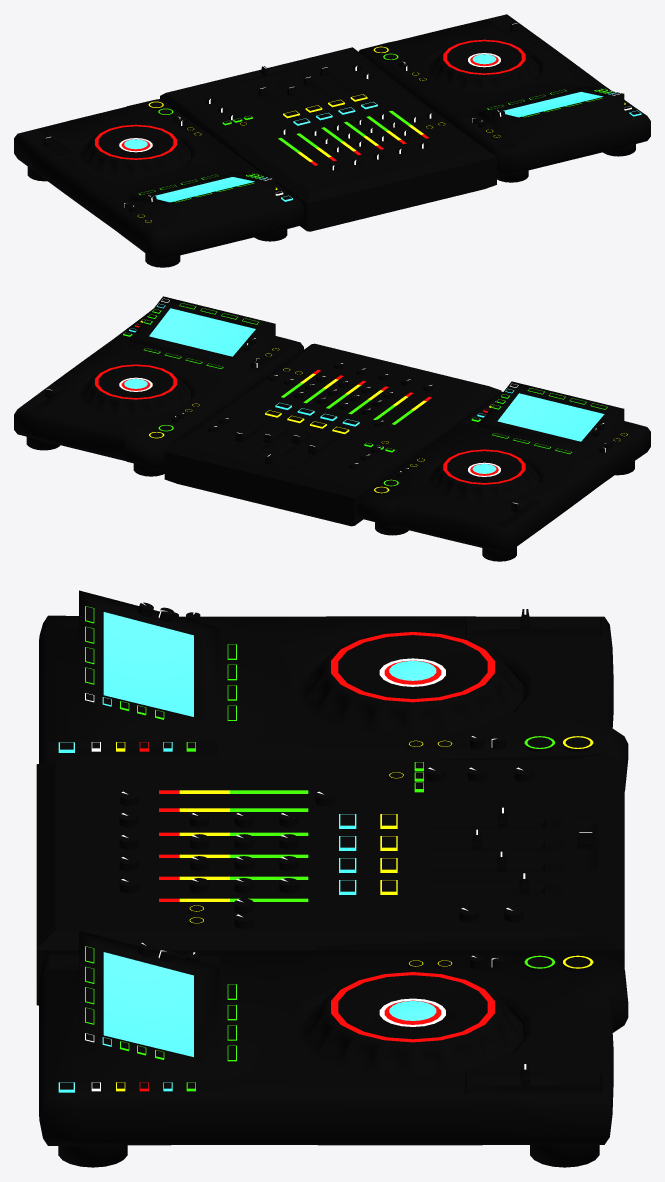
The model's file is dj_set.glb.
3 renders of one model, top to bottom at view 1: azimuth 30°, elevation 25°; view 2: azimuth 150°, elevation 25°; view 3: azimuth 270°, elevation 25°, orthographic. The views are drawn at different scales.
Visible parts, largest first — view 1: Box058, Cylinder121, Cylinder226; view 2: Box058, Cylinder121, Cylinder226; view 3: Cylinder226, Box058, Cylinder121, Cylinder228, Cylinder230.
Boxes of the visible parts, box(x1,y1,x2,y2) form: Box058: box(160, 47, 496, 231); Cylinder121: box(14, 99, 303, 260); Cylinder226: box(358, 14, 650, 176); Box058: box(164, 343, 501, 526); Cylinder121: box(356, 381, 650, 553); Cylinder226: box(14, 296, 303, 468); Cylinder226: box(39, 930, 628, 1145); Box058: box(36, 754, 624, 1005); Cylinder121: box(39, 590, 628, 791); Cylinder228: box(530, 1145, 599, 1167); Cylinder230: box(58, 1145, 127, 1167).
Size of the model in its own units: 17.39 by 1.91 by 8.96.
